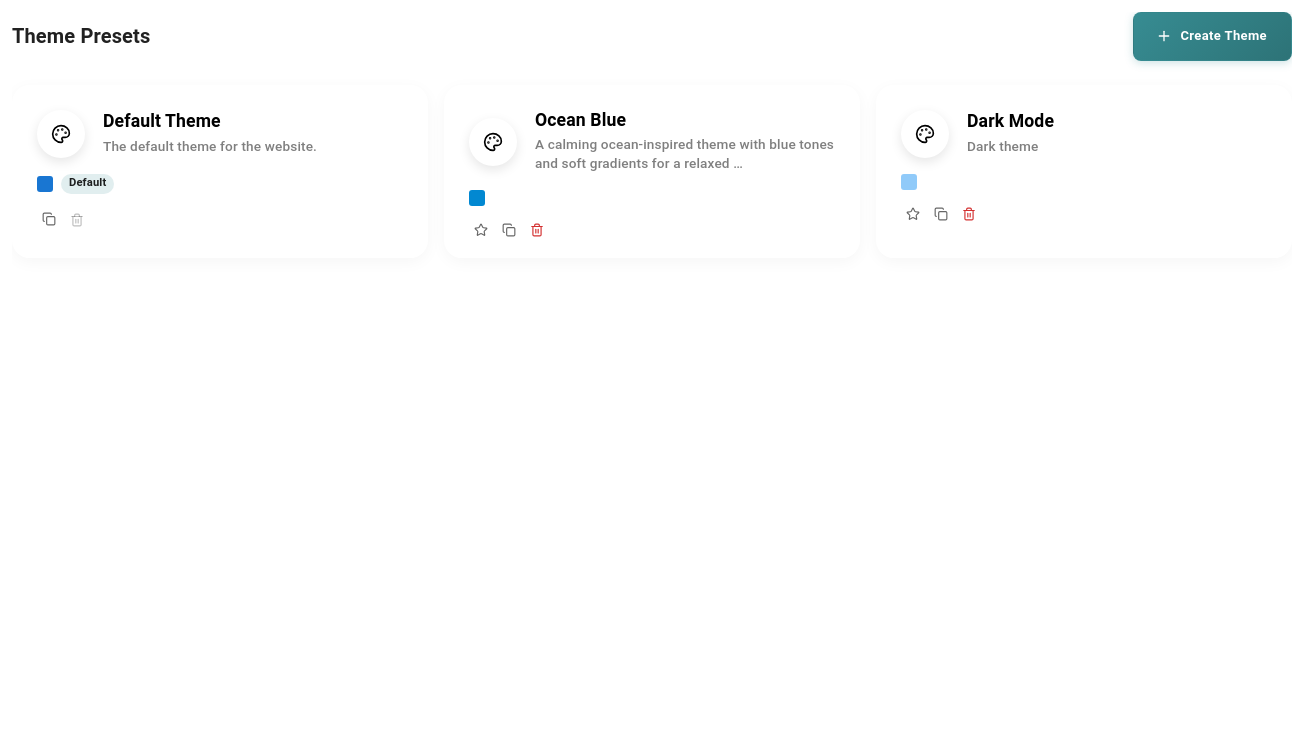
it: ThemeManager › Create Theme button opens inline form
The width and height of the screenshot is (1304, 732).
Expected: the heading "Default Theme" is shown, [103,112,221,132]
Click the button "Create Theme". click: (1213, 36)
box: [1134,12,1292,61]
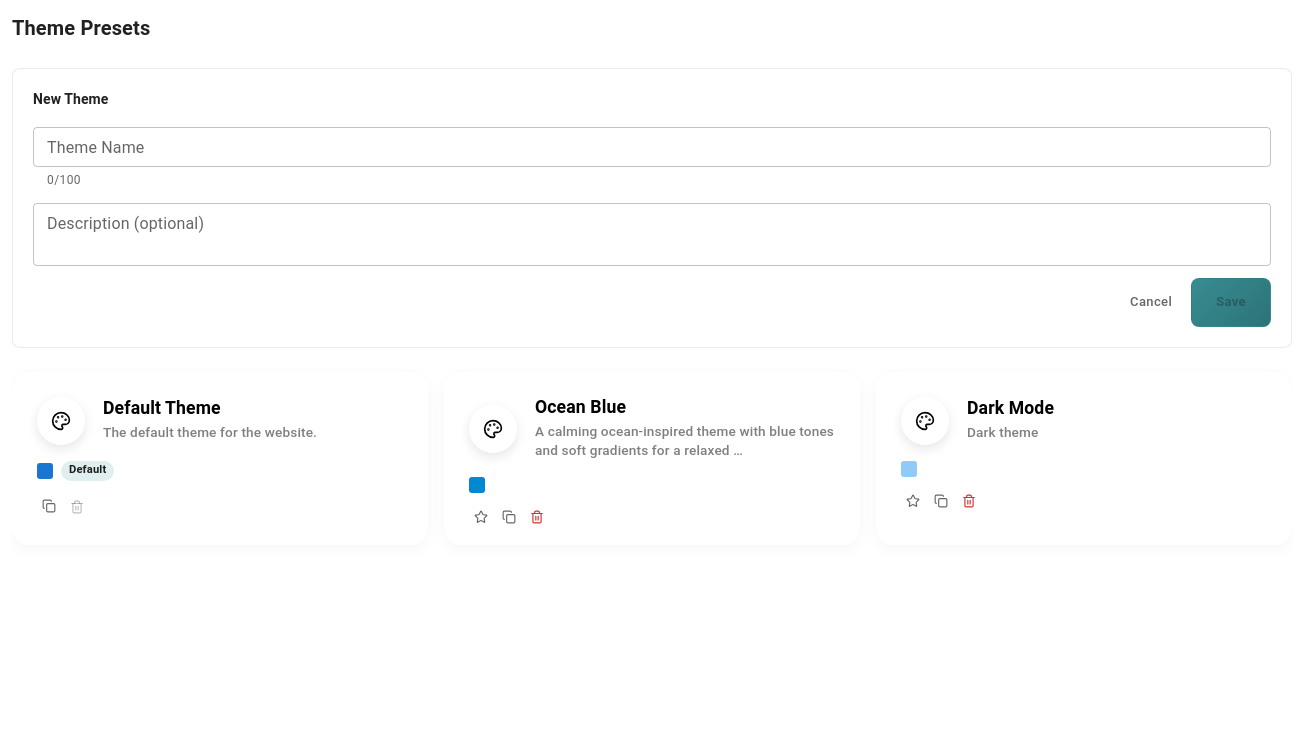
Expected: the field with placeholder "Theme Name" is shown, [33,127,1271,167]
